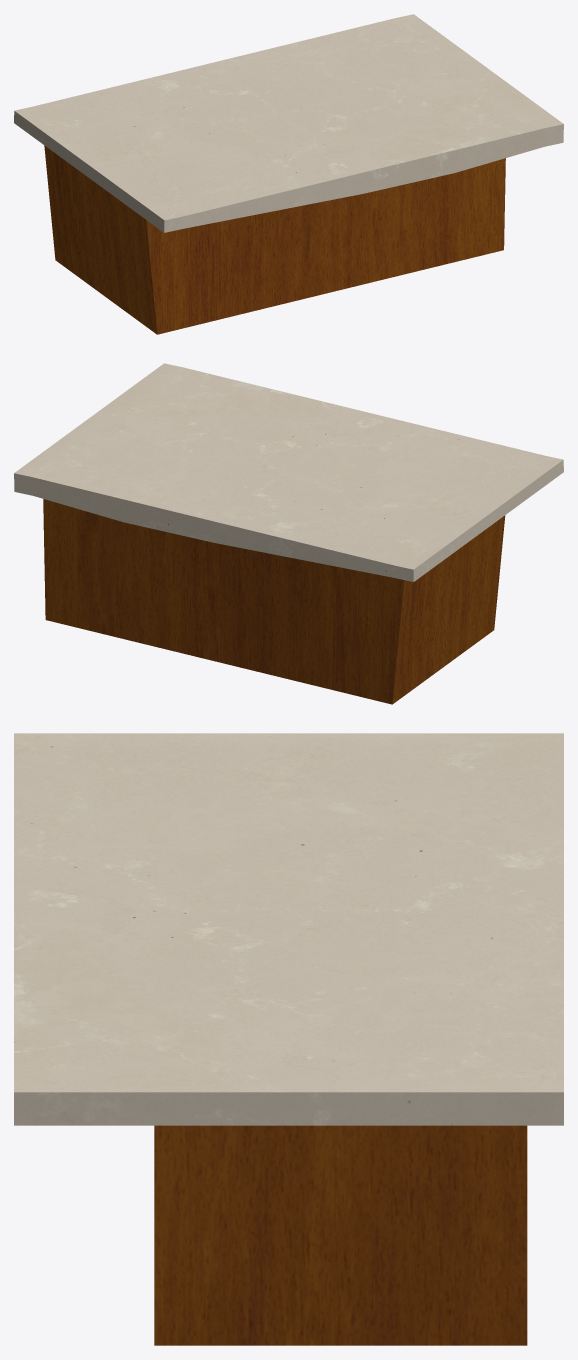
The model's file is Island.fbx.
The picture shows the model from 3 angles, top to bottom: view 1: azimuth 30°, elevation 25°; view 2: azimuth 150°, elevation 25°; view 3: azimuth 270°, elevation 25°; orthographic projection. The views are drawn at different scales.
Visible parts, largest first — view 1: Counter9:polySurface5countertop; view 2: Counter9:polySurface5countertop; view 3: Counter9:polySurface5countertop.
Part boxes in pixels (x1,y1,x2,y2): Counter9:polySurface5countertop: [14, 14, 563, 334]; Counter9:polySurface5countertop: [14, 363, 563, 704]; Counter9:polySurface5countertop: [14, 733, 563, 1345].
Size of the model in its own units: 23.06 by 8.26 by 15.
